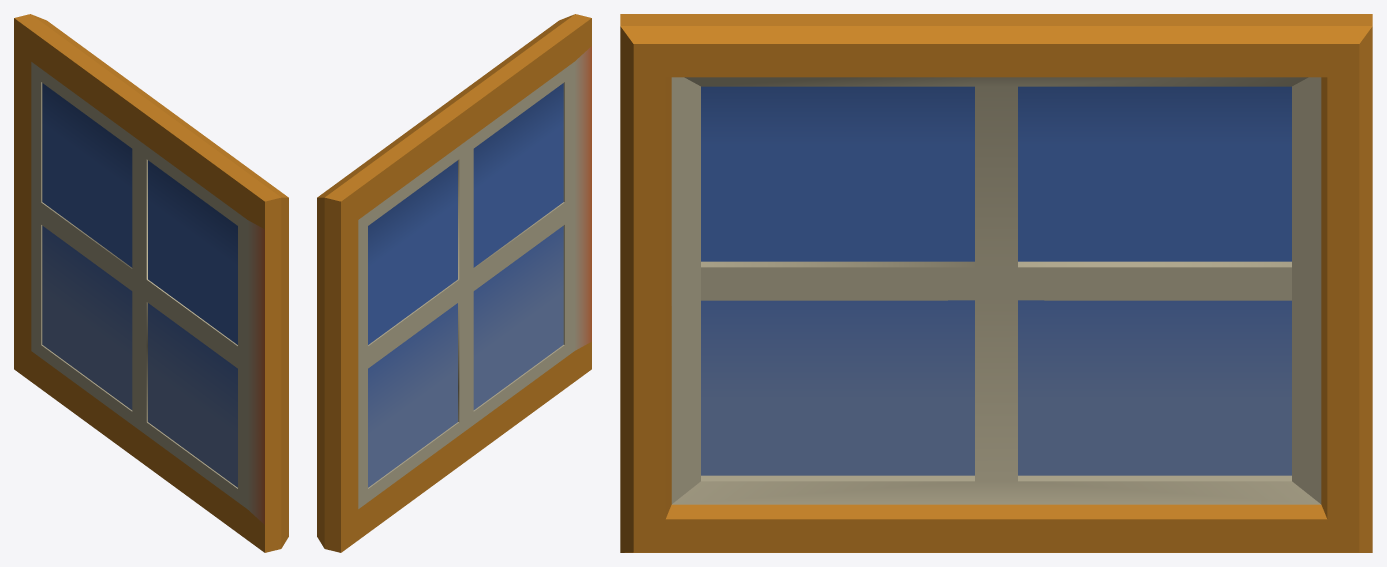
File: window.fbx
3 views of the same model, side by side, from view 1: azimuth 30°, elevation 25°; view 2: azimuth 150°, elevation 25°; view 3: azimuth 270°, elevation 25° (orthographic). The views are drawn at different scales.
Visible parts, largest first — view 1: window3; view 2: window3; view 3: window3.
Part boxes in pixels (x1=…): window3: x1=14, y1=14, x2=288, y2=552; window3: x1=317, y1=14, x2=591, y2=552; window3: x1=620, y1=14, x2=1372, y2=552.
Size of the model in its own units: 140 by 1659 by 2146.
